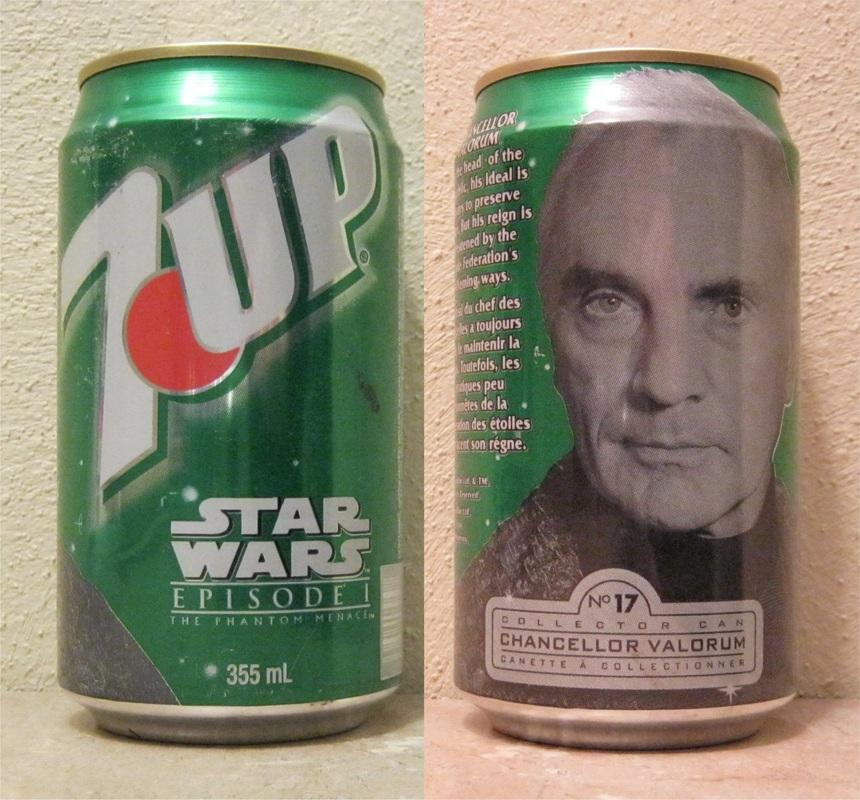can: (47, 33, 413, 746), (439, 45, 806, 752)
